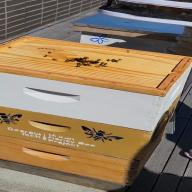Bee: (108, 56, 124, 65)
